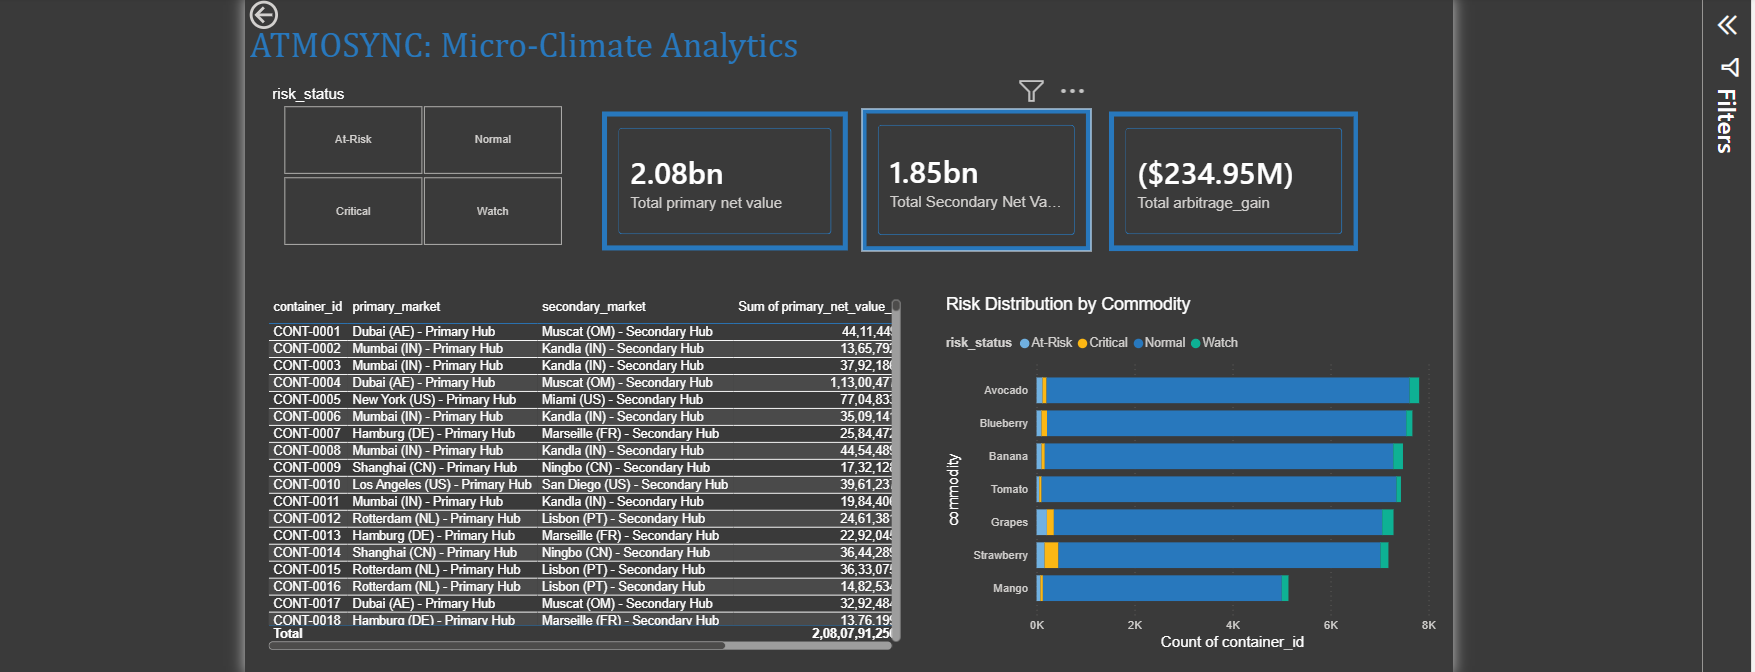

Layout of this report page (visuals, bound fields, positions):
{"tool":"powerbi","page":{"name":"Financial / Arbitrage Analysis","canvas":[1280,720],"ordinal":2},"visuals":[{"type":"textbox","box":[0,24.6,674.7,98.3],"z":0},{"type":"slicer","fields":{"Values":["cleaned_dataset.risk_status"]},"box":[15.9,89.1,343.9,181.4],"z":1000},{"type":"cardVisual","fields":{"Data":["Sum(cleaned_dataset.primary_net_value_usd)"]},"box":[378.6,122.5,260.8,147.4],"z":2000},{"type":"cardVisual","fields":{"Data":["Sum(cleaned_dataset.secondary_net_value_usd)"]},"box":[653.7,119.3,243.8,151.2],"z":3000},{"type":"cardVisual","fields":{"Data":["Sum(cleaned_dataset.arbitrage_gain_usd)"]},"box":[916.2,122.5,264,147.9],"z":4000},{"type":"tableEx","fields":{"Values":["cleaned_dataset.container_id","cleaned_dataset.primary_market","cleaned_dataset.secondary_market","Sum(cleaned_dataset.primary_net_value_usd)","Sum(cleaned_dataset.secondary_net_value_usd)"]},"box":[19.1,316.5,680.8,381.7],"z":5000},{"type":"actionButton","box":[0,0,100,40],"z":6000},{"type":"barChart","title":"Risk Distribution by Commodity","fields":{"Category":["cleaned_dataset.commodity"],"Y":["Count(cleaned_dataset.container_id)"],"Series":["cleaned_dataset.risk_status"]},"box":[738,316.5,529.7,381.7],"z":7000}]}

Visuals, with their boxes on the page's 1280x720 design canvas (x1, y1, x2, y2). These are canvas units, not pixel positions in the 1755x672 screenshot, which may show the page scaled, cropped or inside an application window:
textbox: select_region(0, 25, 675, 123)
slicer - cleaned_dataset.risk_status: select_region(16, 89, 360, 270)
cardVisual - Sum(cleaned_dataset.primary_net_value_usd): select_region(379, 122, 639, 270)
cardVisual - Sum(cleaned_dataset.secondary_net_value_usd): select_region(654, 119, 898, 270)
cardVisual - Sum(cleaned_dataset.arbitrage_gain_usd): select_region(916, 122, 1180, 270)
tableEx - cleaned_dataset.container_id x cleaned_dataset.primary_market: select_region(19, 316, 700, 698)
actionButton: select_region(0, 0, 100, 40)
"Risk Distribution by Commodity" barChart: select_region(738, 316, 1268, 698)
